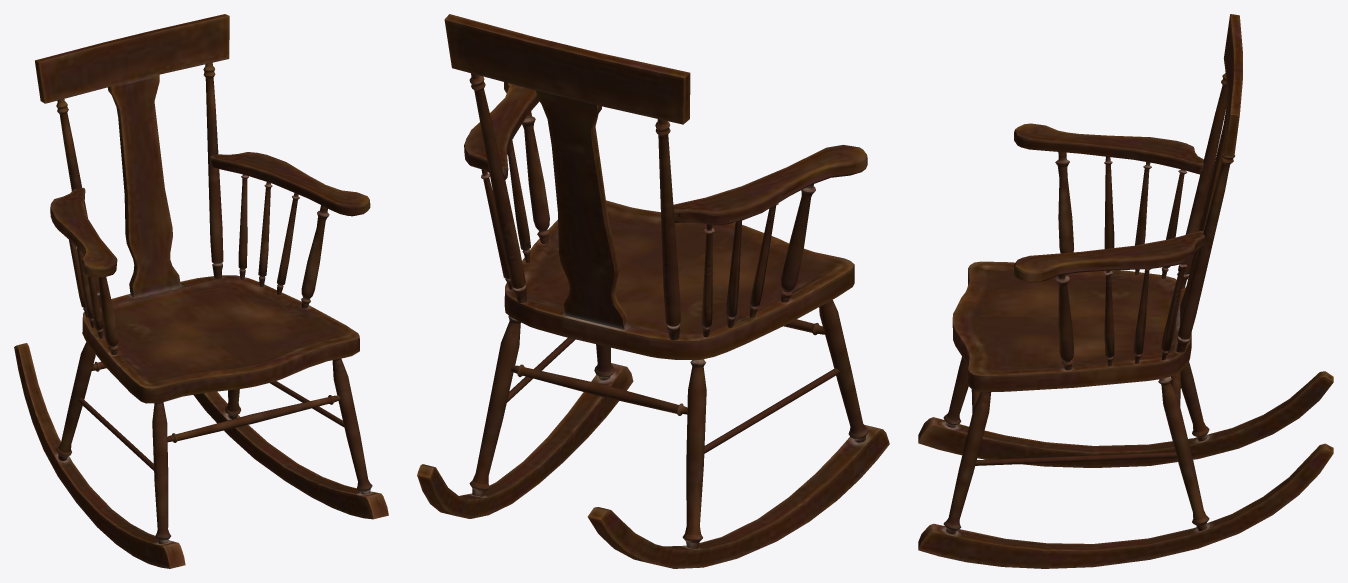
Rendered from rocking-chair.lite.6aeb081d.glb.
3 views of the same model, side by side, from view 1: azimuth 30°, elevation 25°; view 2: azimuth 150°, elevation 25°; view 3: azimuth 270°, elevation 25° (orthographic). The views are drawn at different scales.
Parts seen in each view (by area): view 1: model; view 2: model; view 3: model.
Part boxes in pixels (x1,y1,x2,y2): model: (14,14,388,568); model: (417,14,889,568); model: (918,14,1333,568).
Bounding box in the file's own units: 0.7081 × 0.9949 × 0.8335.
1 material, 1 textured.
